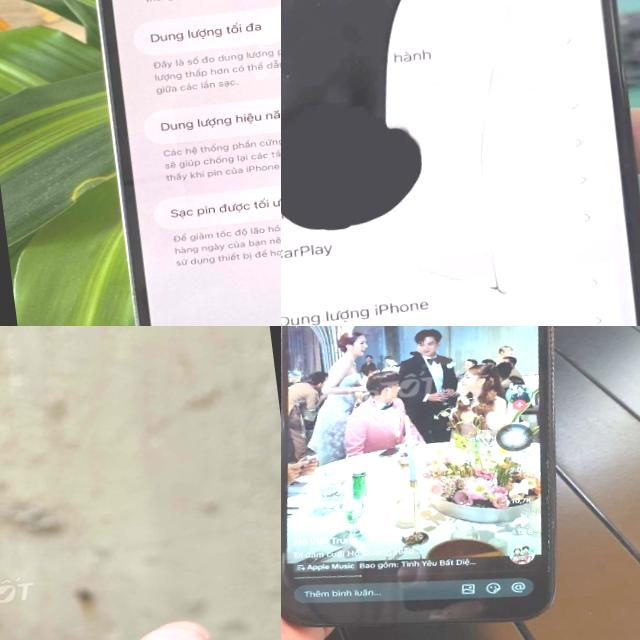physical_damage: (394, 242, 481, 308), (474, 1, 534, 63), (469, 238, 524, 304), (458, 182, 517, 240), (464, 60, 511, 130), (461, 132, 512, 186), (500, 296, 564, 326)
screen_defect: (332, 0, 436, 78), (288, 84, 358, 191), (281, 173, 379, 247), (344, 146, 436, 218), (334, 70, 410, 157), (281, 19, 334, 104), (281, 104, 316, 170), (281, 135, 292, 226)
